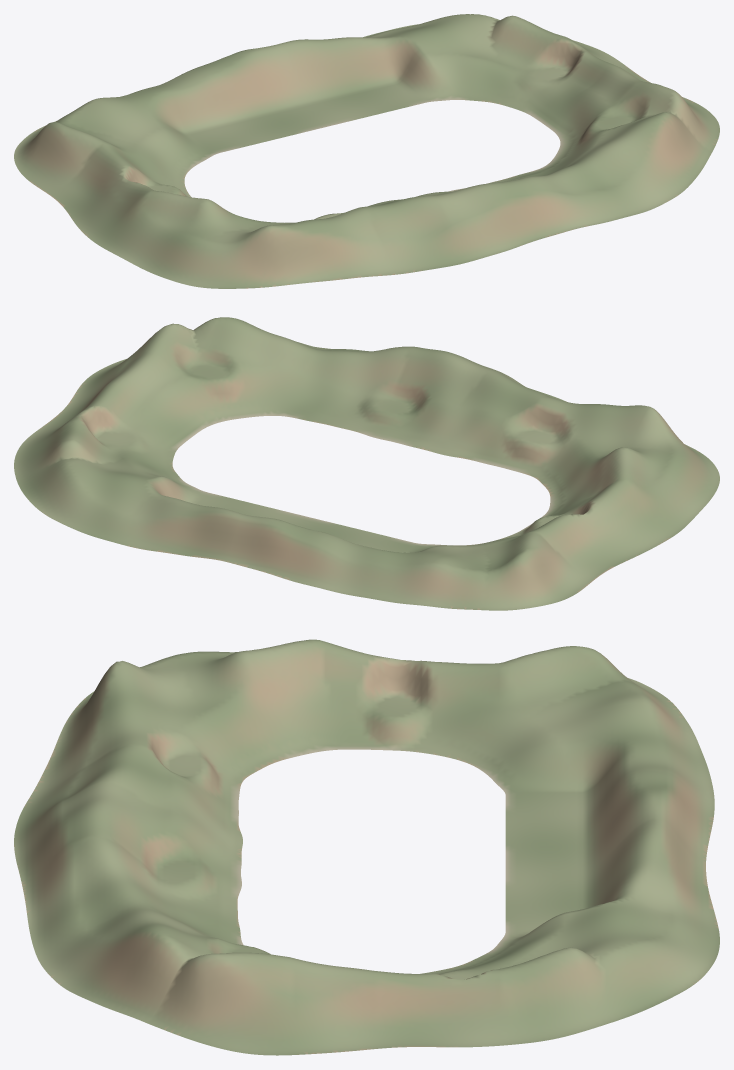
File: Stage 2 Outer Valley.glb
The picture shows the model from 3 angles, top to bottom: view 1: azimuth 30°, elevation 25°; view 2: azimuth 150°, elevation 25°; view 3: azimuth 270°, elevation 25°; orthographic projection. The views are drawn at different scales.
Visible parts, largest first — view 1: STAGE2 Outer River Valley Terrain; view 2: STAGE2 Outer River Valley Terrain; view 3: STAGE2 Outer River Valley Terrain.
Part boxes in pixels (x1,y1,x2,y2): STAGE2 Outer River Valley Terrain: [14, 14, 719, 288]; STAGE2 Outer River Valley Terrain: [14, 317, 719, 610]; STAGE2 Outer River Valley Terrain: [14, 639, 719, 1055].
Bounding box in the file's own units: 699 × 59.45 × 524.
